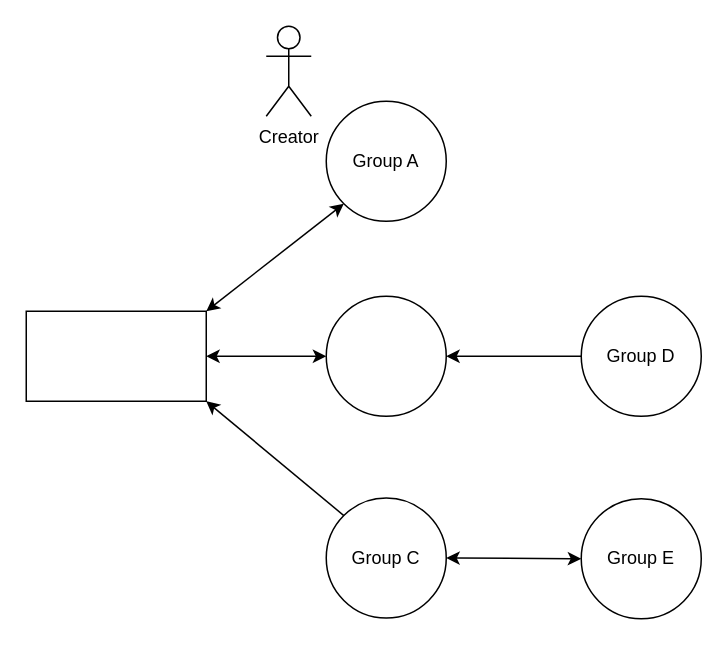
The diagram is 728 pixels wide and 645 high, and some of its shapes have lost their labels. Each missing label, with the box of its shape:
Asset: Contact: (25, 310, 206, 401)
Group B: (325, 295, 446, 416)
